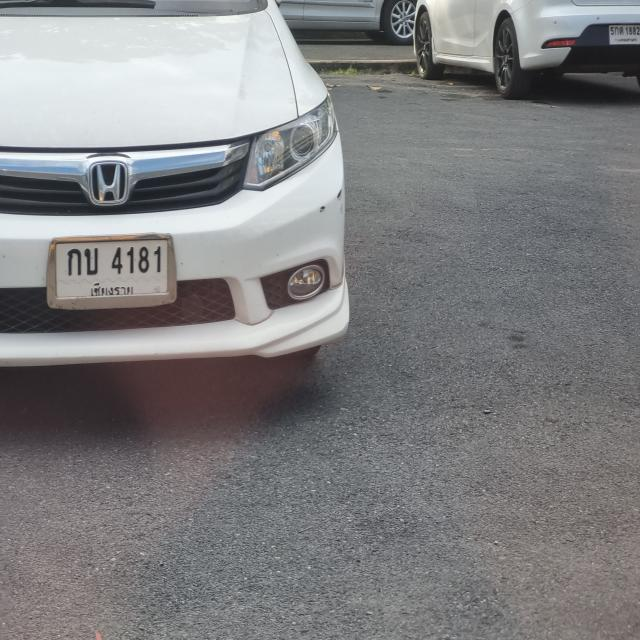license_plate: (43, 232, 184, 314)
